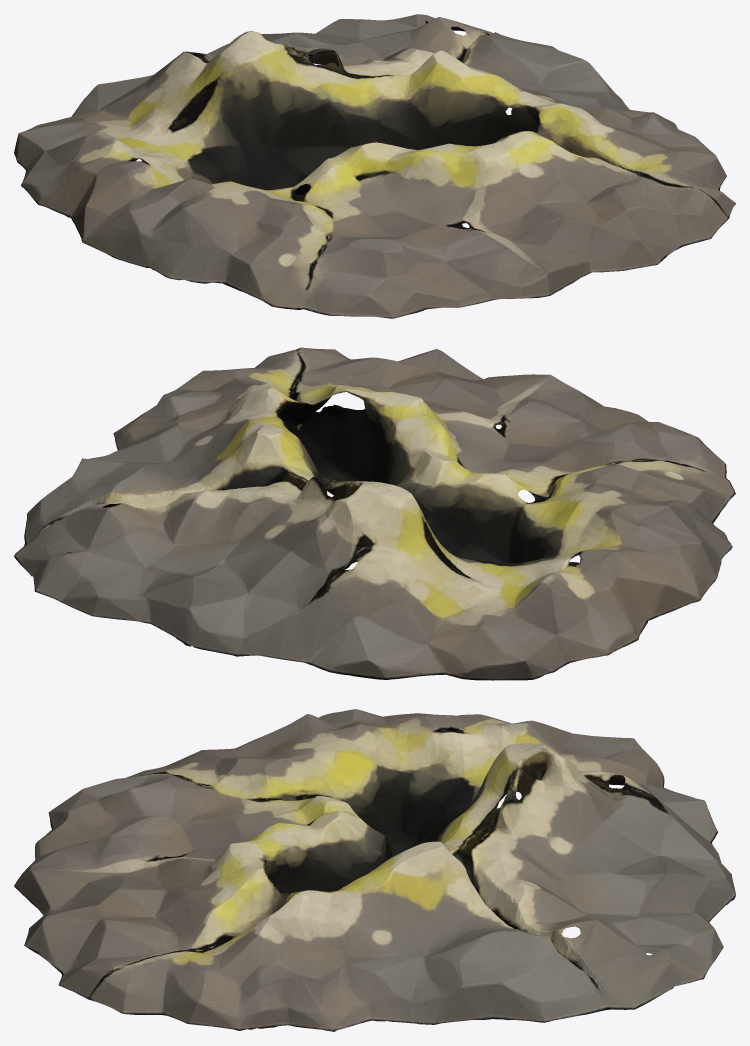
3 renders of one model, top to bottom at view 1: azimuth 30°, elevation 25°; view 2: azimuth 150°, elevation 25°; view 3: azimuth 270°, elevation 25°, orthographic. The views are drawn at different scales.
Parts seen in each view (by area): view 1: world; view 2: world; view 3: world.
Part boxes in pixels (x1=…): world: x1=14, y1=14, x2=735, y2=318; world: x1=14, y1=347, x2=735, y2=680; world: x1=14, y1=709, x2=735, y2=1031.
Size of the model in its own units: 0.9845 by 0.2029 by 0.9937.
Materials: 1 (1 with a texture image).
